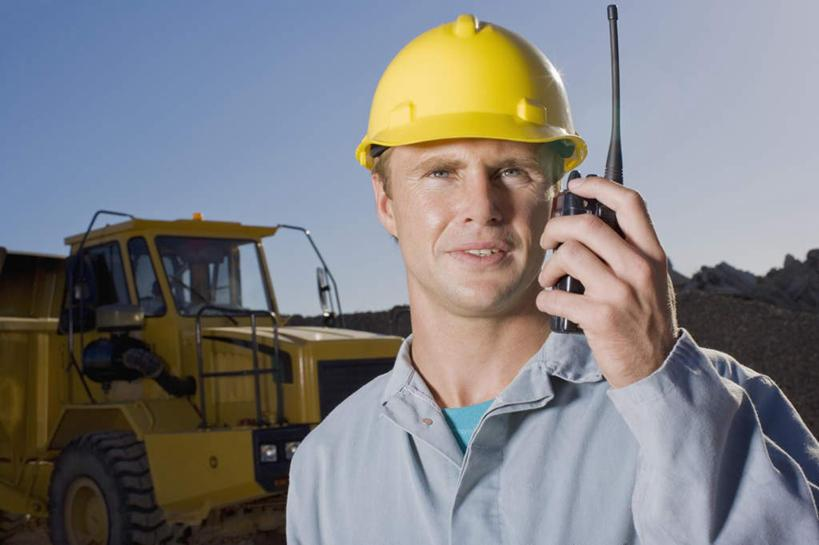helmet: (355, 18, 590, 173)
